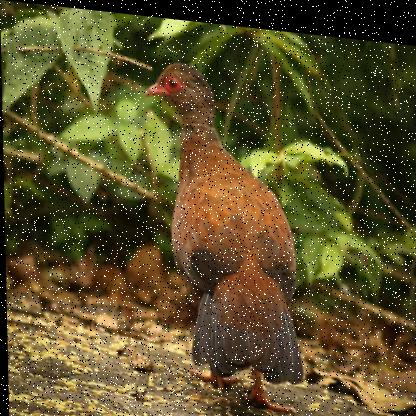Burung: (145, 53, 304, 409)
